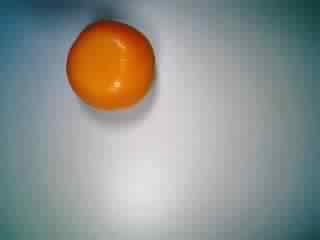orange: (62, 17, 159, 115)
